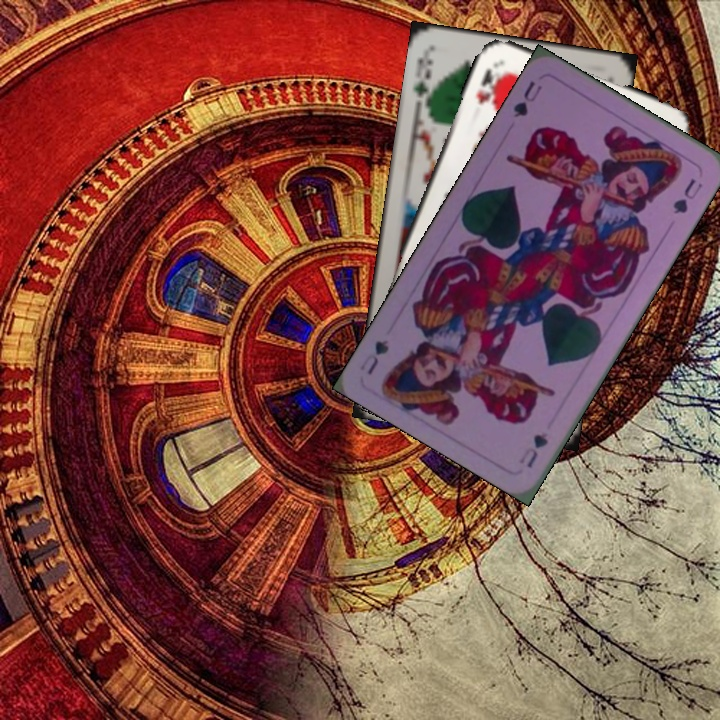GK: (408, 48, 437, 108)
GU: (509, 77, 545, 121), (515, 428, 551, 471)
HK: (472, 64, 508, 107)
